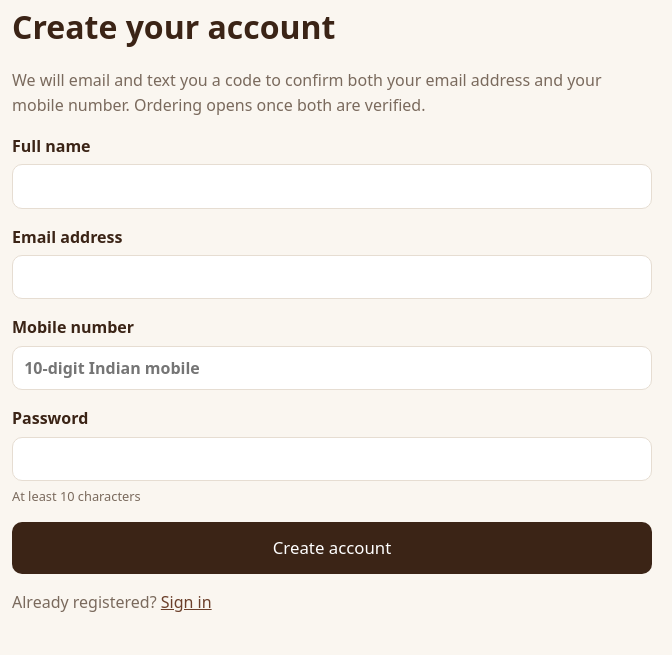
Scenario: RegisterPage › warns before submitting when the mobile number is malformed
This screenshot has width=672, height=655.
Type "12345" into the field labelled "Mobile number" at (332, 368), box [12,346,652,390]
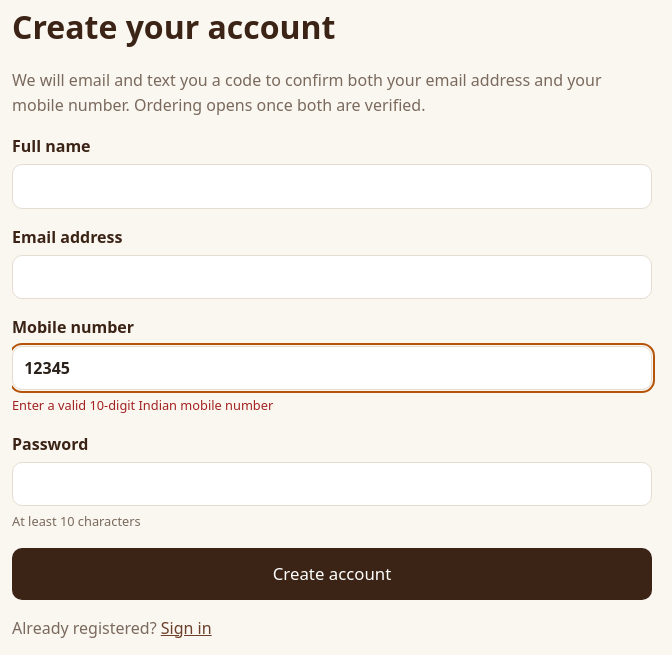
Expected: the text "Enter a valid 10-digit Indian mobile number" is shown, [12,396,273,414]
